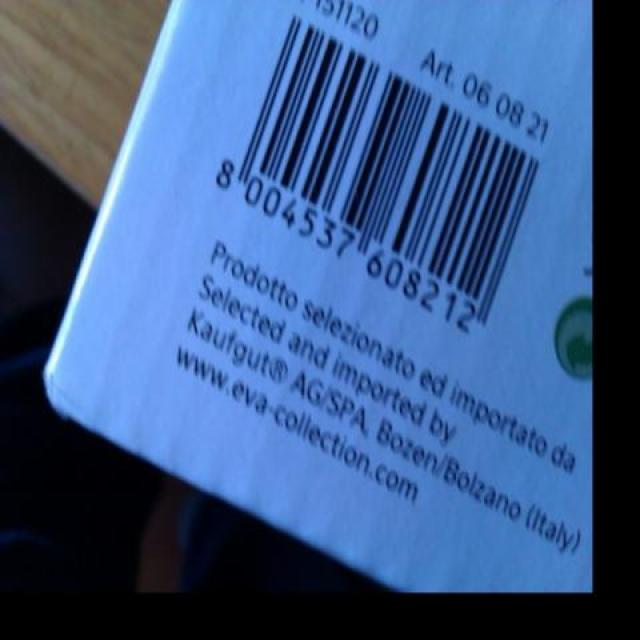Barcode: (209, 9, 558, 346)
